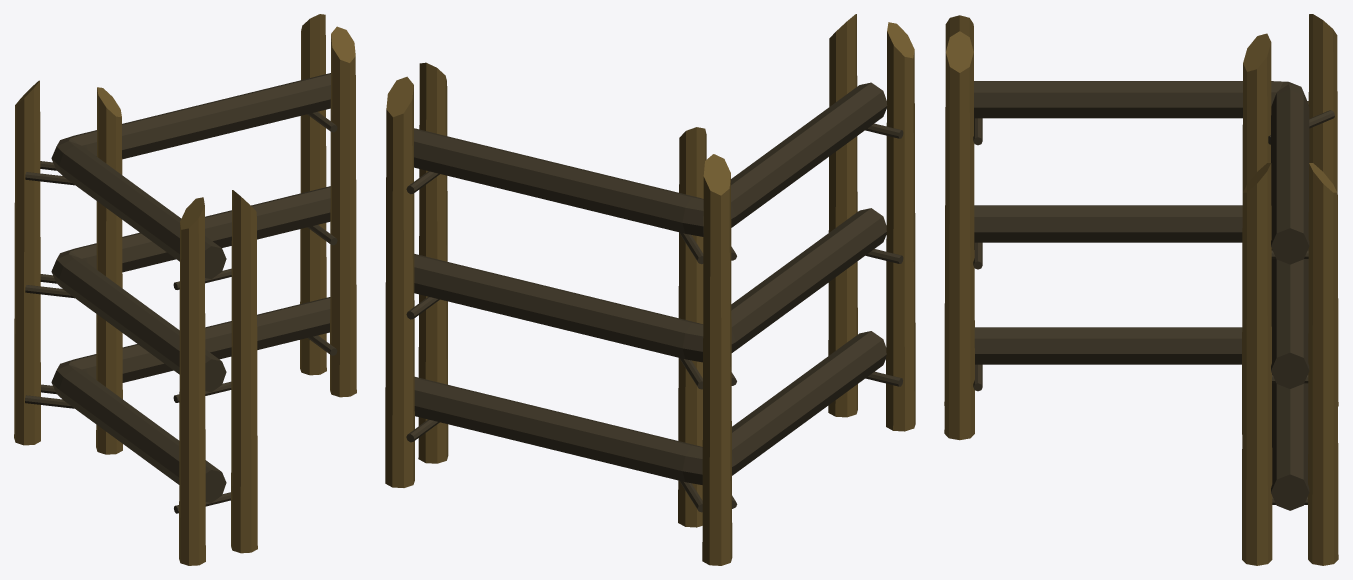
File: Valla esquinada.fbx
3 views of the same model, side by side, from view 1: azimuth 30°, elevation 25°; view 2: azimuth 150°, elevation 25°; view 3: azimuth 270°, elevation 25° (orthographic). The views are drawn at different scales.
Parts seen in each view (by area): view 1: valla; view 2: valla; view 3: valla.
Boxes of the visible parts, left/top/right/bottom form: valla: left=14, top=14, right=356, bottom=565; valla: left=385, top=14, right=915, bottom=565; valla: left=944, top=14, right=1338, bottom=565.
Size of the model in its own units: 239 by 265 by 239.
